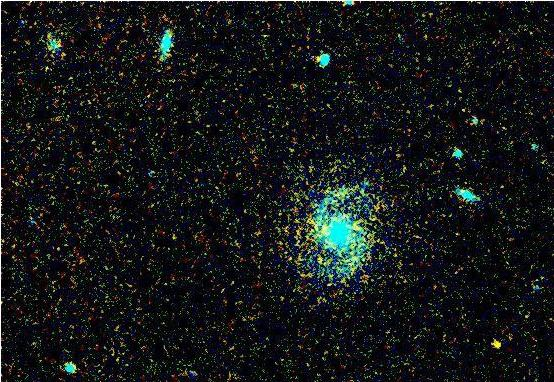star: (480, 328, 510, 358)
